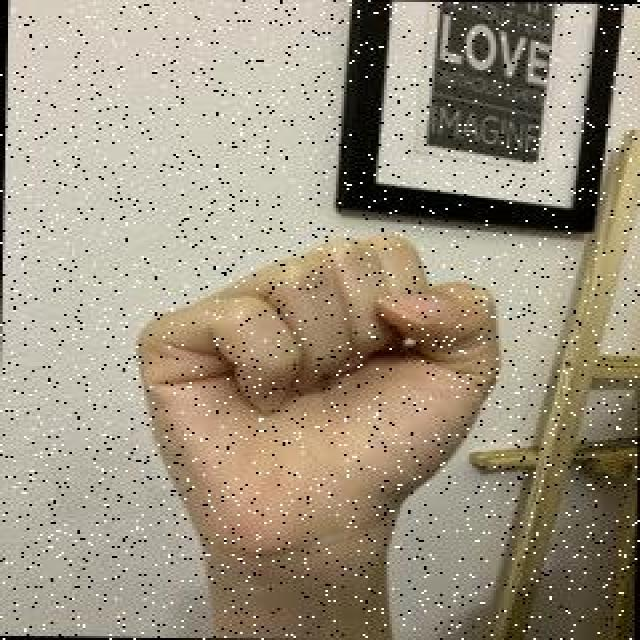S: (118, 227, 510, 581)
